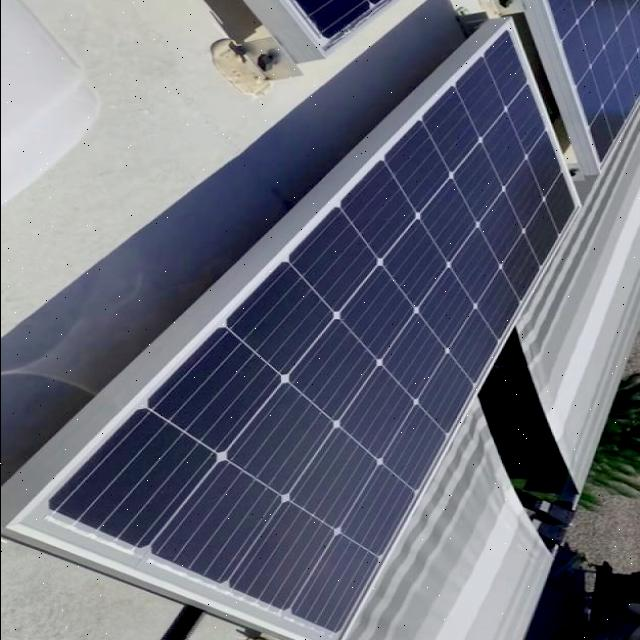Normal Solar Panel: (6, 20, 584, 640), (534, 0, 640, 174), (260, 0, 418, 56)
